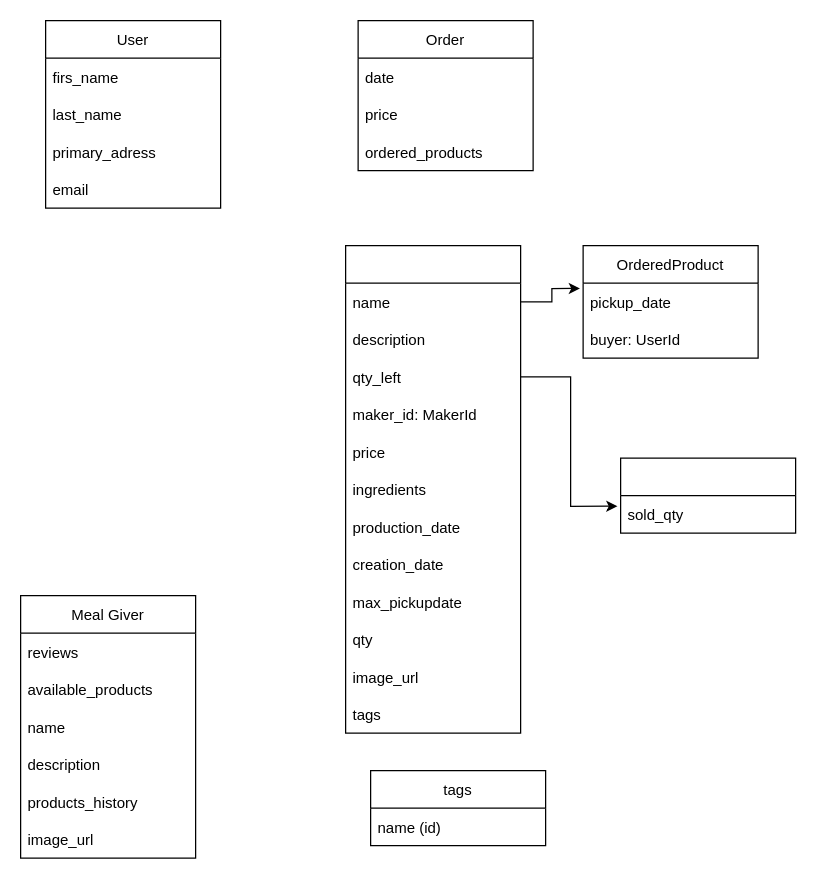
Some shapes in this 816 by 879 pixel diagram are drawn without their labels. The box of each missing label's shape, as (x1, y1, x2, y2) in pixels:
ActiveProduct: (344, 244, 521, 733)
PastProduct: (619, 457, 796, 533)
